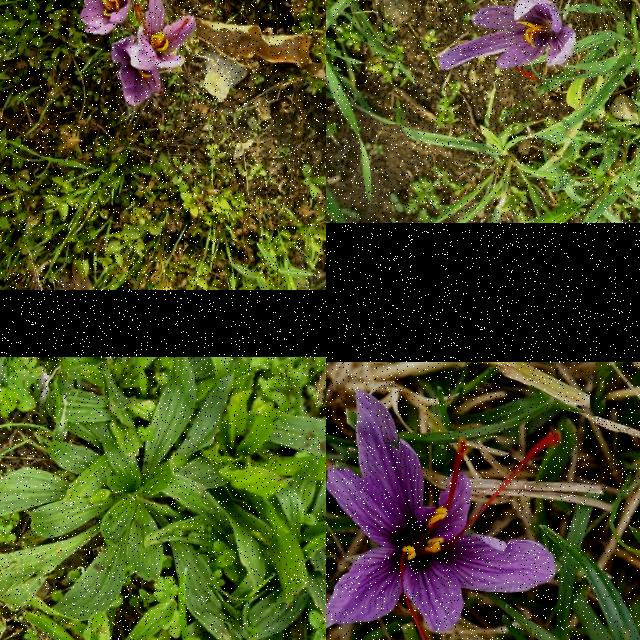flower: (326, 390, 560, 640), (437, 0, 576, 82), (81, 0, 133, 35)
overlap: (111, 0, 196, 107)
